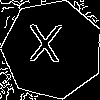X: (27, 24, 63, 72)
